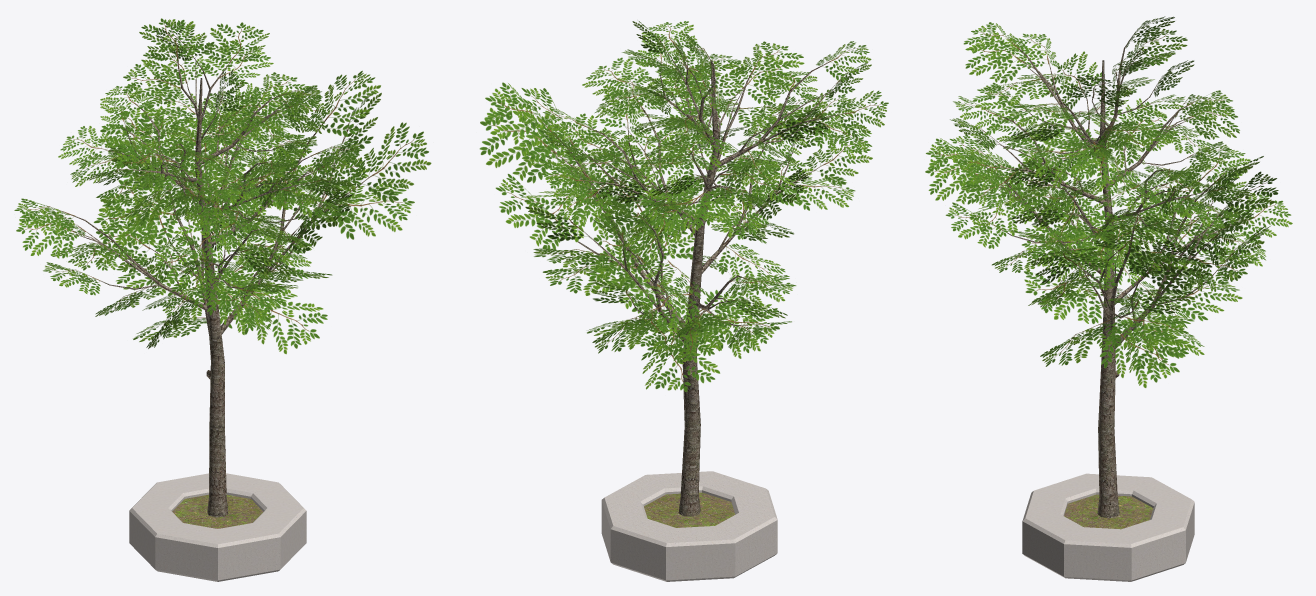
File: tree.glb
3 renders of one model, left to right at view 1: azimuth 30°, elevation 25°; view 2: azimuth 150°, elevation 25°; view 3: azimuth 270°, elevation 25°, orthographic. The views are drawn at different scales.
Parts seen in each view (by area): view 1: cityblockassetkit; view 2: cityblockassetkit; view 3: cityblockassetkit.
Boxes of the visible parts, bbox=[...] form: cityblockassetkit: bbox=[14, 18, 431, 581]; cityblockassetkit: bbox=[479, 21, 888, 581]; cityblockassetkit: bbox=[925, 16, 1292, 581].
Size of the model in its own units: 4.21 by 5.93 by 3.91.
4 materials, 4 textured.
